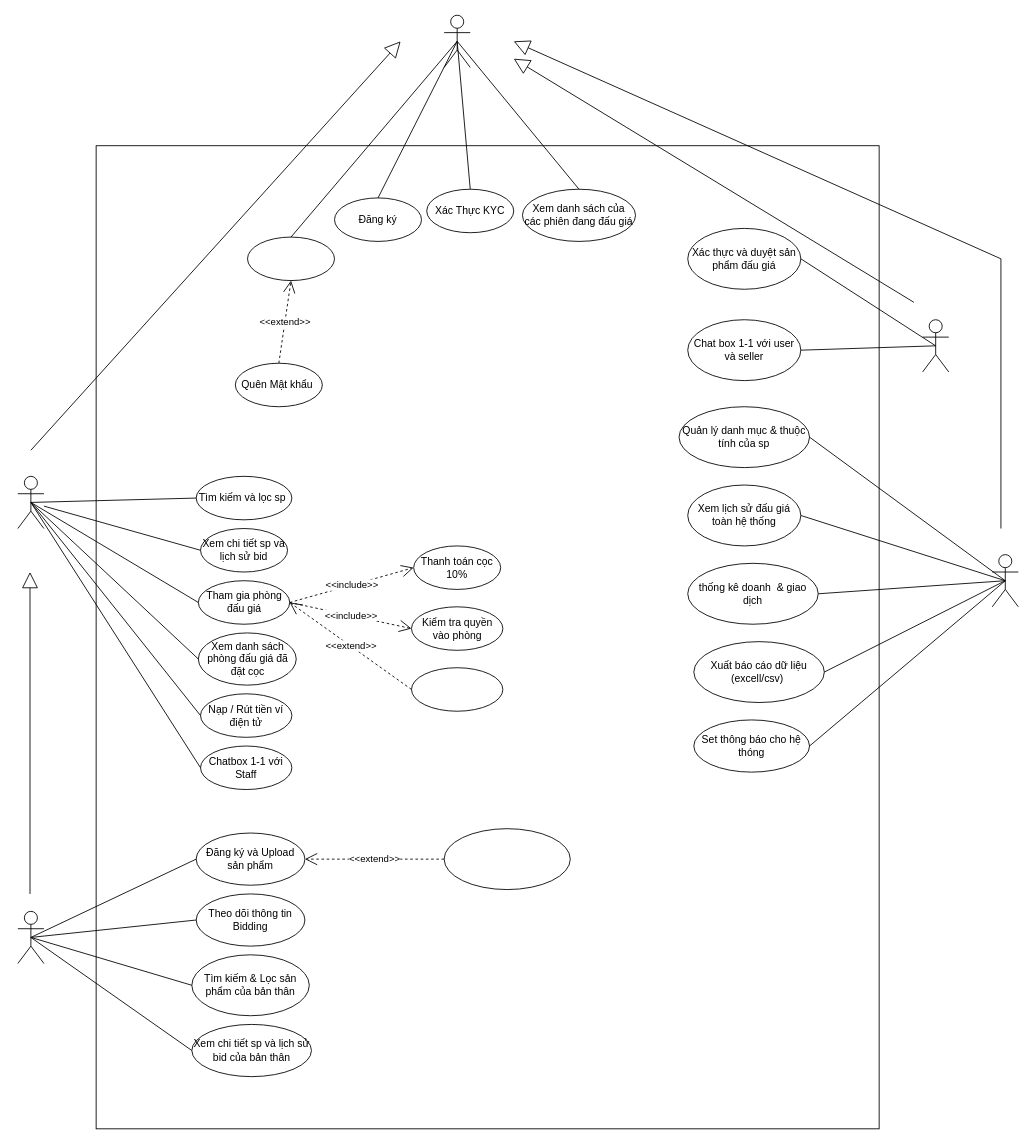
Some shapes in this 1034 by 1144 pixel diagram are drawn without their labels. Each missing label, with the centre of its shape:
"admin" belongs at point (1004, 580).
"hỗ trợ từ AI Chatbot để định giá sản phẩm" belongs at point (506, 859).
"Seller" belongs at point (30, 937).
"Staff" belongs at point (935, 345).
"System User" belongs at point (456, 40).
"User" belongs at point (30, 502).
"Đăng nhập" belongs at point (291, 258).
"Đặt Bid" belongs at point (457, 689).
